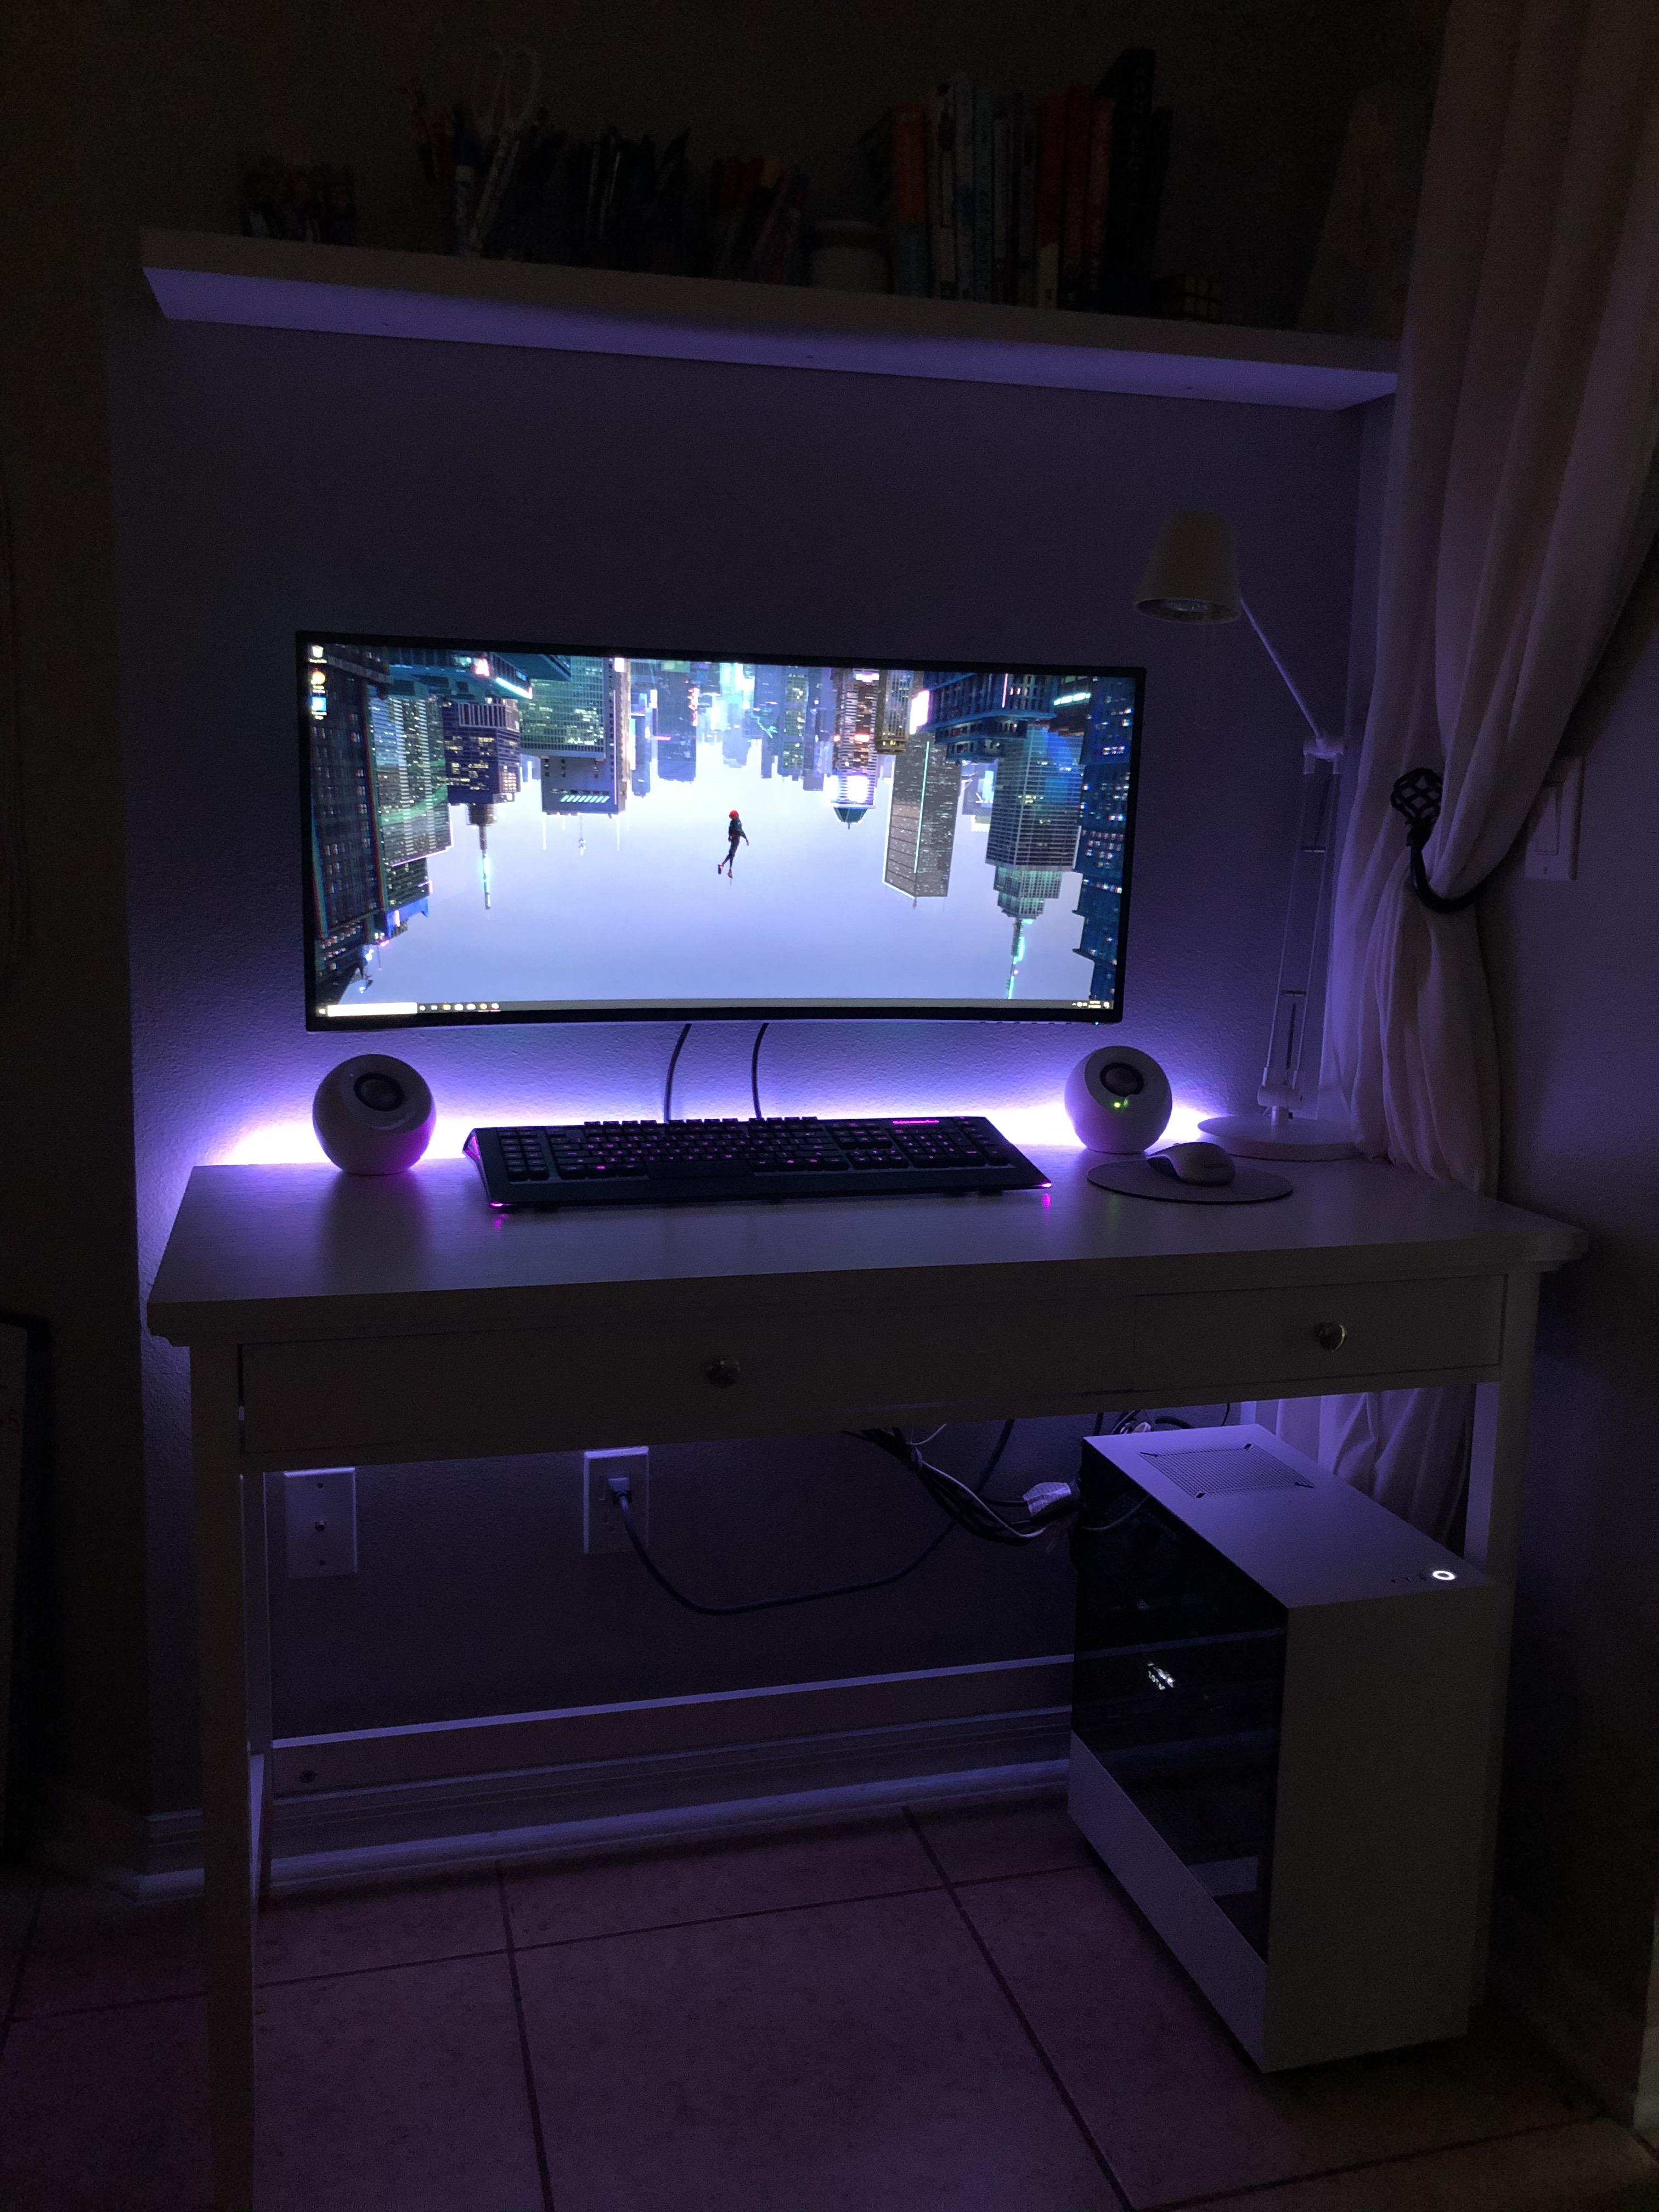Book: (859, 63, 1161, 314)
Decoration (Picture): (230, 152, 364, 258)
Decoration (Rubric's Cube): (1150, 268, 1223, 336)
Desk (Generic): (148, 1151, 1591, 2212)
Desktop (Windows): (1061, 1420, 1497, 2092)
External Speakers (Generic): (312, 1057, 439, 1183), (1065, 1036, 1175, 1155)
Keyboard (Gaming): (464, 1118, 1054, 1217)
Lamp (Desk): (1133, 507, 1377, 1163)
Monitor (Landscape): (293, 632, 1147, 1033)
Mouse (Generic): (1145, 1143, 1237, 1184)
Mousepad (Generic): (1086, 1158, 1297, 1204)
Storage Drawer: (199, 1263, 1516, 1453)
